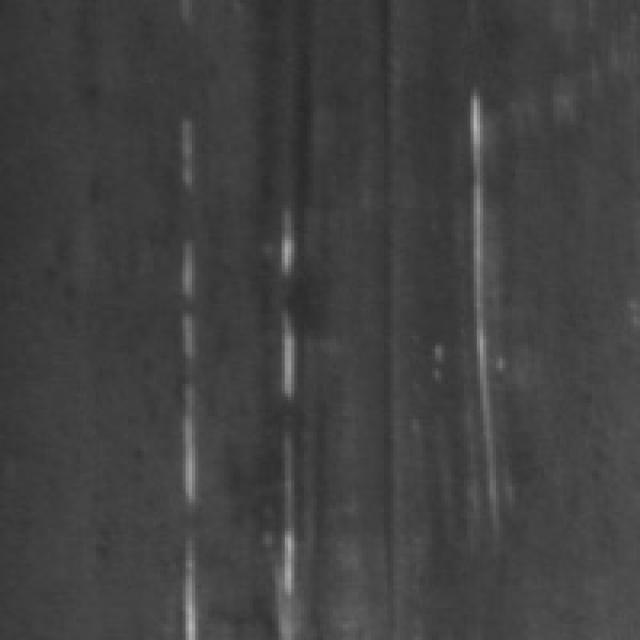inclusion: (250, 0, 326, 208)
scratches: (467, 83, 515, 547), (180, 115, 214, 637), (269, 182, 307, 634)
